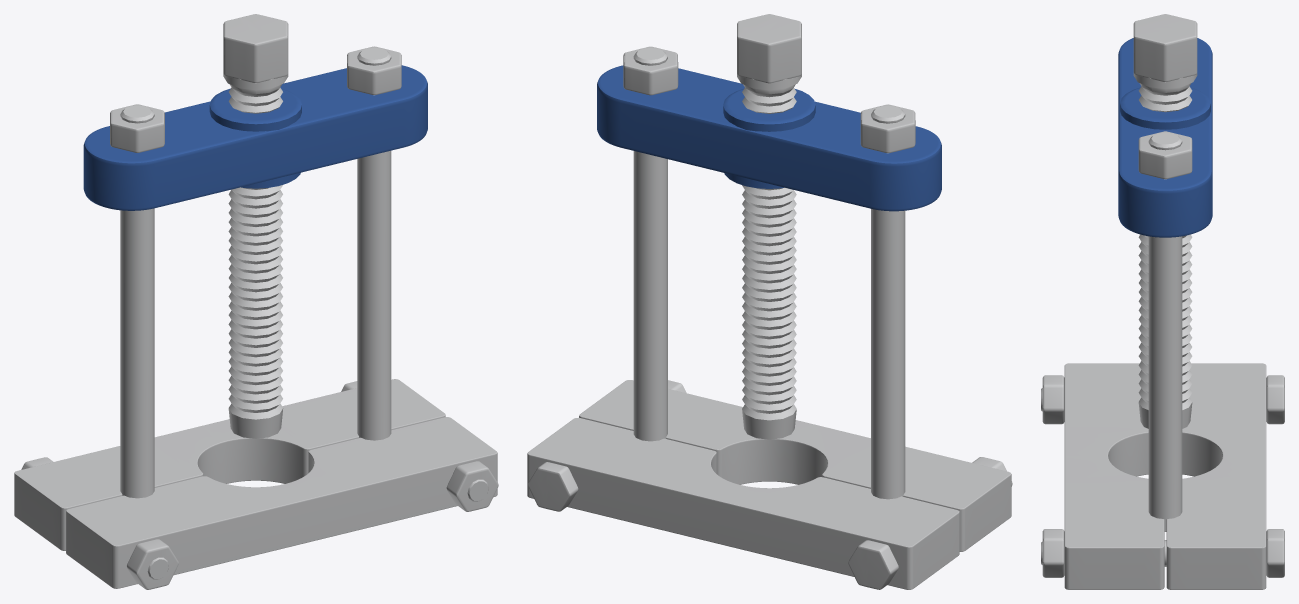
The model's file is extrator-rolamentos.glb.
The picture shows the model from 3 angles, left to right: view 1: azimuth 30°, elevation 25°; view 2: azimuth 150°, elevation 25°; view 3: azimuth 270°, elevation 25°; orthographic projection.
Visible parts, largest first — view 1: placa, ponte, fuso; view 2: placa, ponte, fuso; view 3: placa, ponte, fuso.
Part boxes in pixels (bbox=[...]): placa: bbox=[14, 379, 498, 589]; ponte: bbox=[83, 46, 427, 498]; fuso: bbox=[223, 14, 288, 438]; placa: bbox=[527, 380, 1012, 589]; ponte: bbox=[597, 46, 941, 499]; fuso: bbox=[737, 14, 801, 439]; placa: bbox=[1041, 363, 1284, 589]; ponte: bbox=[1118, 38, 1212, 531]; fuso: bbox=[1133, 14, 1197, 428].
Size of the model in its own units: 0.13 by 0.154 by 0.0725.
